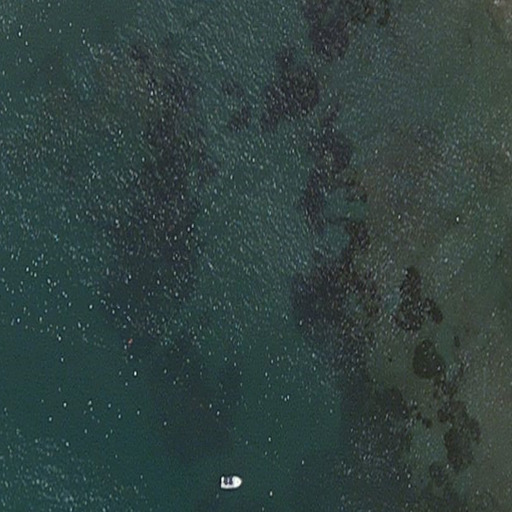ship: (218, 473, 243, 491)
